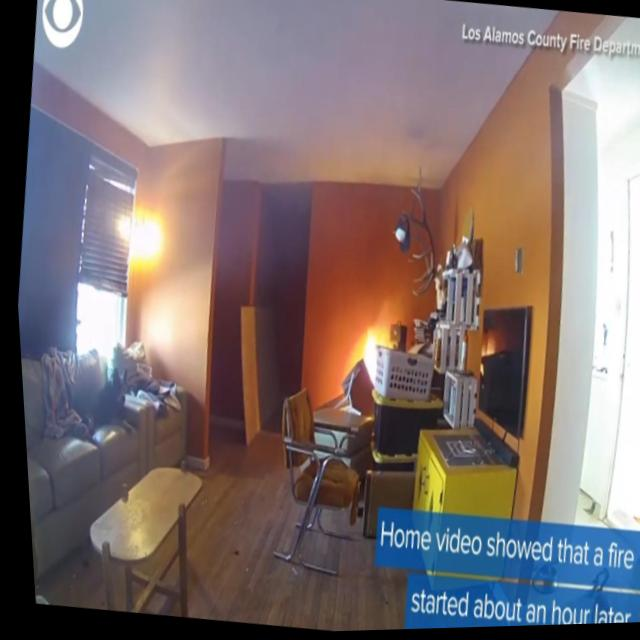fire: (351, 322, 392, 397)
